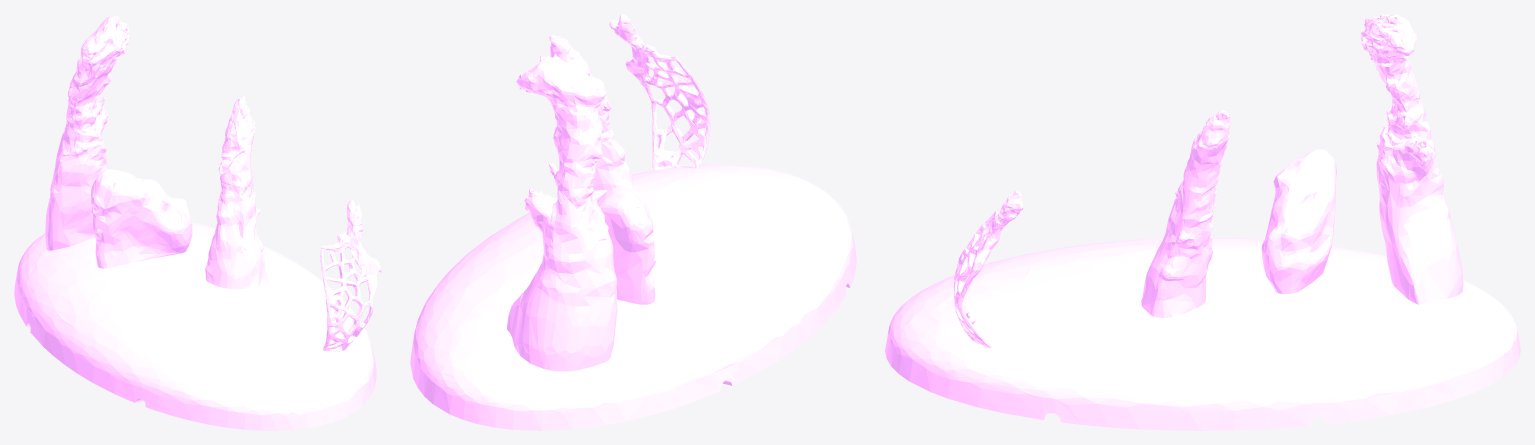
The model's file is neb-pillars.glb.
3 views of the same model, side by side, from view 1: azimuth 30°, elevation 25°; view 2: azimuth 150°, elevation 25°; view 3: azimuth 270°, elevation 25° (orthographic). The views are drawn at different scales.
Visible parts, largest first — view 1: Pillars of Creation (full).stl; view 2: Pillars of Creation (full).stl; view 3: Pillars of Creation (full).stl.
Boxes of the visible parts, bbox=[...] form: Pillars of Creation (full).stl: bbox=[14, 14, 381, 430]; Pillars of Creation (full).stl: bbox=[410, 14, 856, 430]; Pillars of Creation (full).stl: bbox=[885, 14, 1520, 430].
Bounding box in the file's own units: 110 × 106 × 184.
